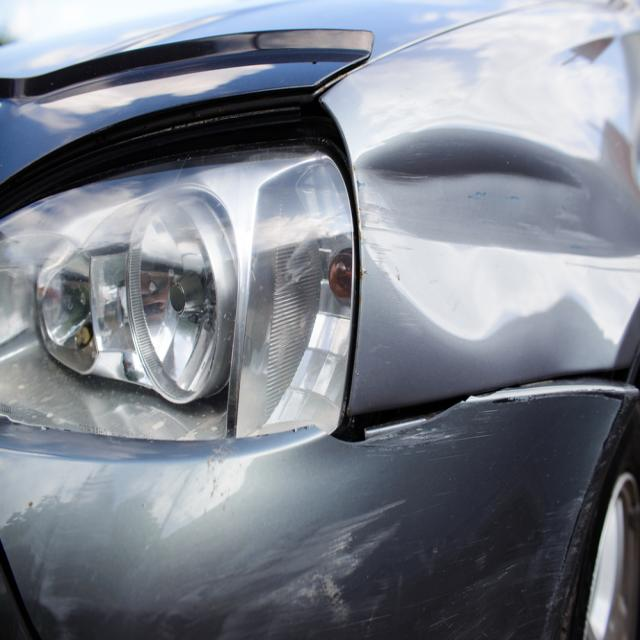dent: (353, 127, 640, 343)
scratch: (32, 383, 628, 640)
